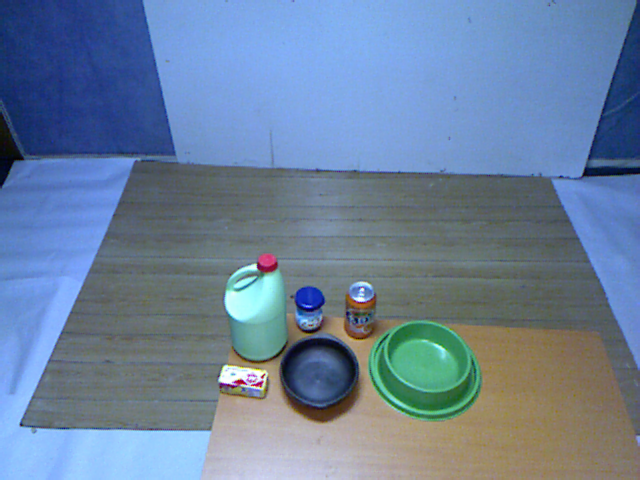cloroplano: (219, 251, 292, 363)
crema: (288, 284, 328, 335)
greda: (274, 328, 362, 416)
lata: (339, 279, 381, 341)
mantequilla: (213, 360, 273, 401)
platoperro: (366, 314, 485, 421)
